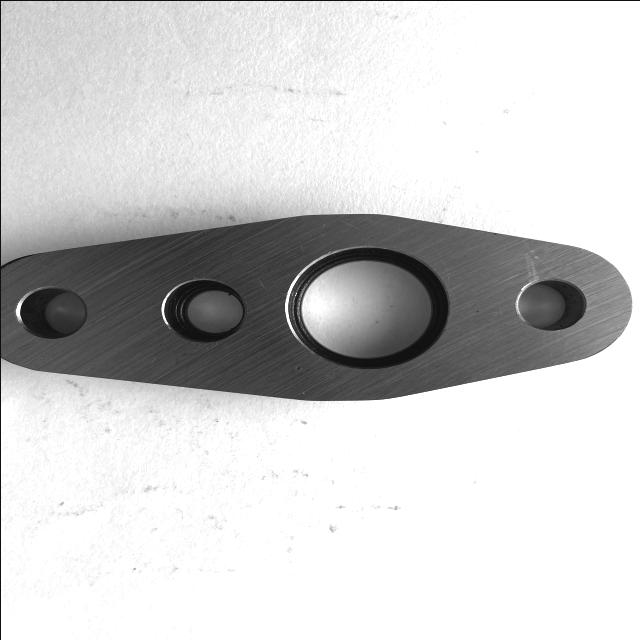chap: (294, 364, 302, 370)
lines: (518, 248, 544, 282), (254, 276, 268, 291)
